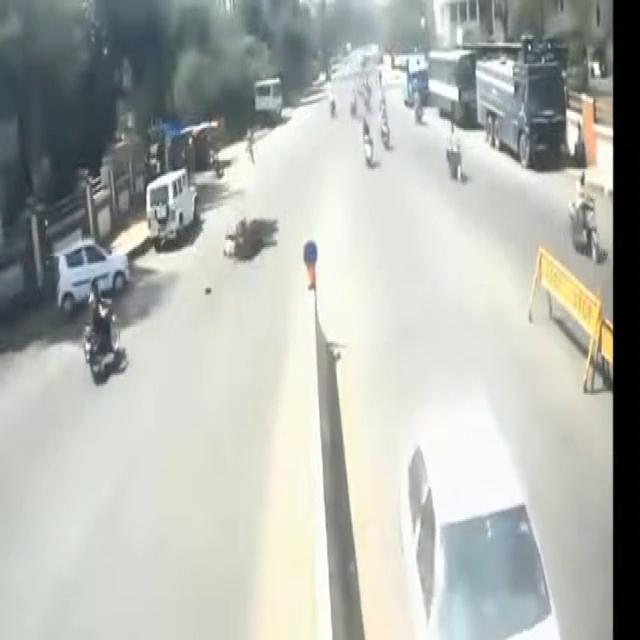accident: (213, 178, 286, 284)
